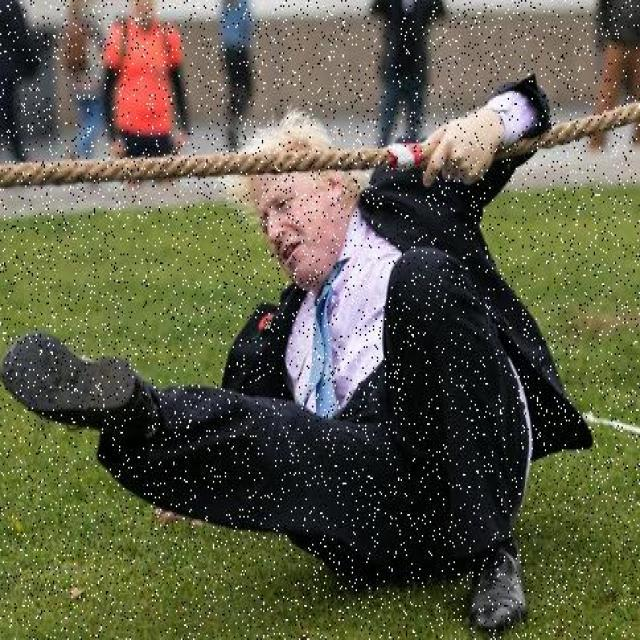fall: (39, 66, 538, 604)
